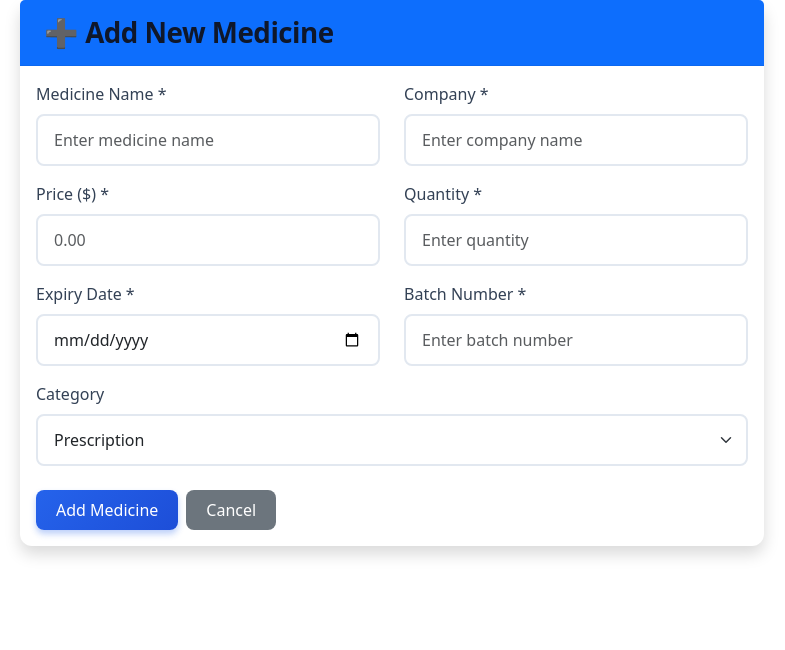
AddMedicine Component › shows validation errors on empty submit
This screenshot has width=785, height=650.
Click the button "Add Medicine" at [107, 510], box [36,490,178,530]
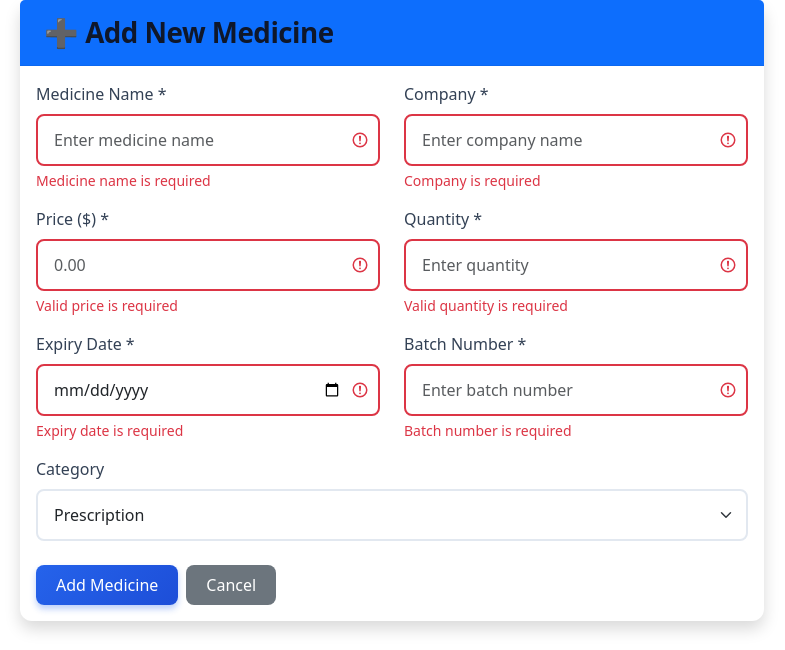
expect the text "Medicine name is required" is shown: met, box [36,171,211,190]
